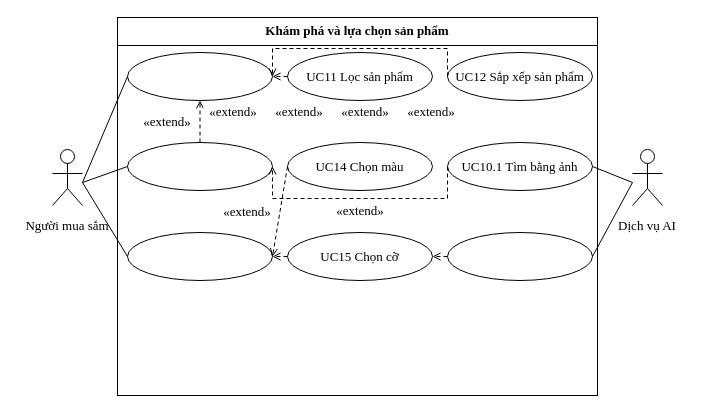
Image size: 714x413. Some labels were removed from this diagram. Each missing label, with the box of its shape:
UC09 Xem danh sách: (126, 52, 272, 100)
UC10 Tìm sản phẩm: (126, 142, 272, 190)
UC13 Xem chi tiết: (126, 232, 272, 280)
UC15.1 Gợi ý cỡ: (446, 232, 592, 280)
